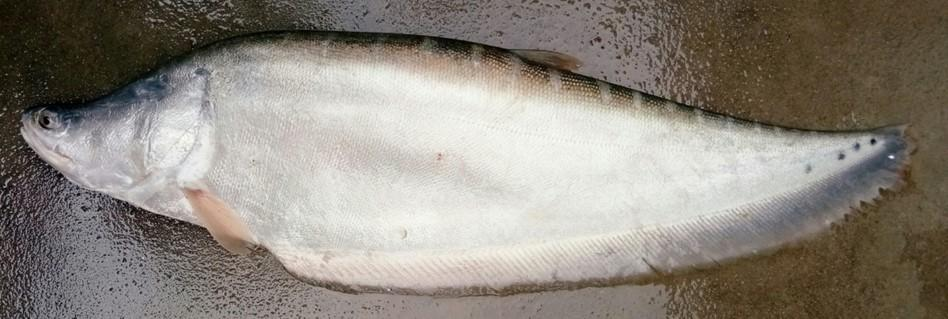Knifefish: (18, 13, 913, 299)
